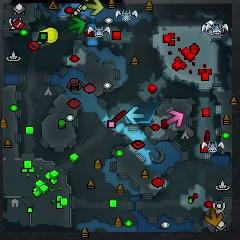p4: (38, 27, 58, 44)
x1: (167, 110, 184, 127)
x2: (83, 0, 104, 16)
x3: (126, 106, 144, 125)
x4: (68, 17, 86, 34)
x5: (205, 208, 222, 226)
